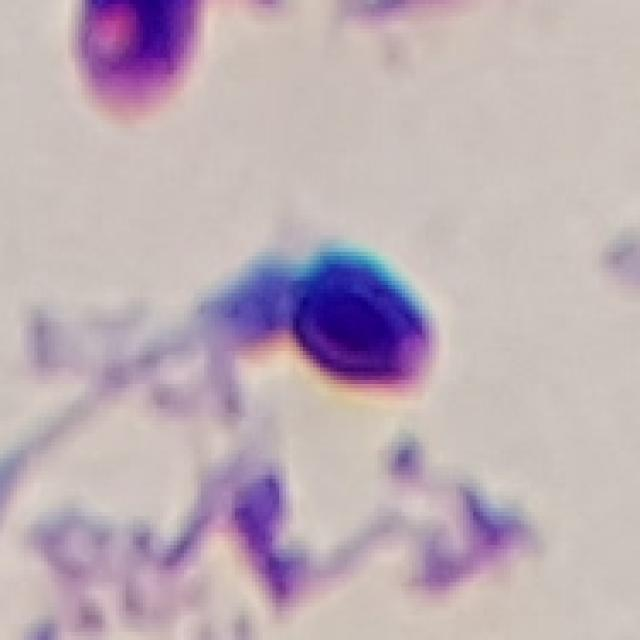abnormal sperm: (157, 246, 440, 392)
